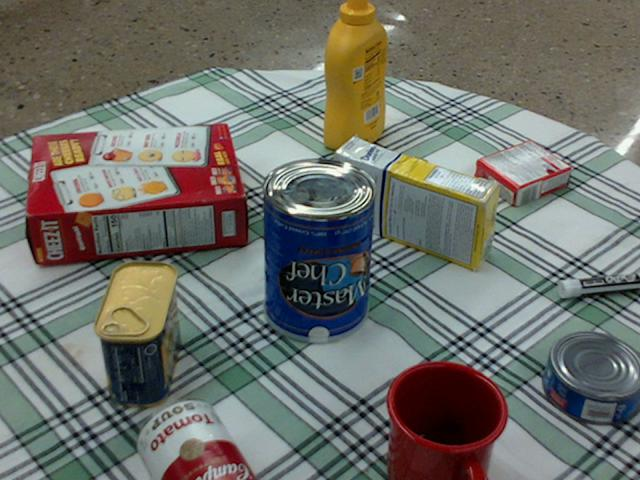cracker_box: (27, 124, 244, 263)
gelatin_box: (474, 141, 570, 207)
large_marker: (558, 273, 639, 297)
master_chef_can: (263, 157, 377, 341)
mug: (383, 361, 506, 479)
mustard_bottle: (322, 0, 386, 151)
potted_meat_can: (94, 260, 178, 406)
sugar_box: (332, 138, 500, 270)
tomato_soup_can: (136, 399, 254, 479)
tuna_fish_can: (543, 332, 639, 424)
